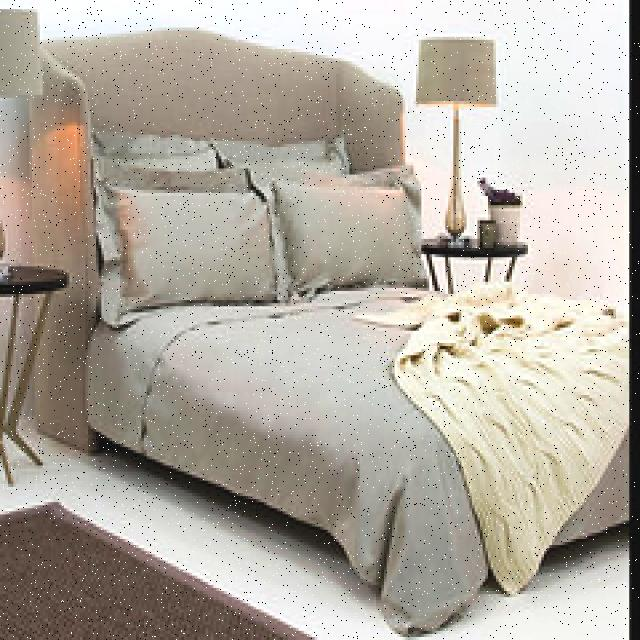bed: (78, 122, 630, 616)
